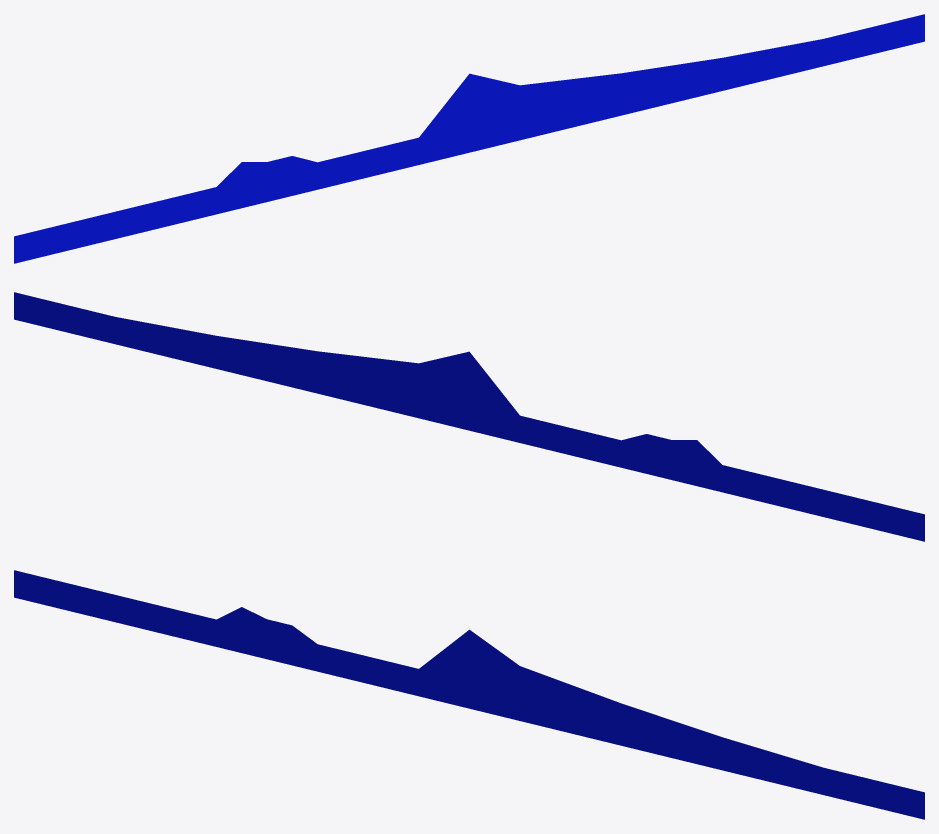
The model's file is map.obj.
The picture shows the model from 3 angles, top to bottom: view 1: azimuth 30°, elevation 25°; view 2: azimuth 150°, elevation 25°; view 3: azimuth 330°, elevation 25°; orthographic projection.
Parts seen in each view (by area): view 1: Grid; view 2: Grid; view 3: Grid.
Part boxes in pixels (x1,y1,x2,y2): Grid: (14, 14, 924, 263); Grid: (14, 292, 924, 541); Grid: (14, 570, 924, 819).
Size of the model in its own units: 15.12 by 1.25 by 0.
